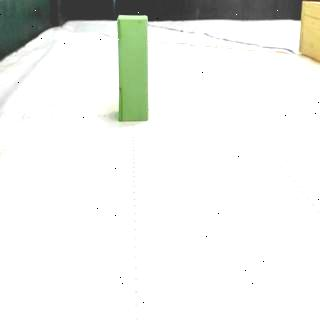greenbox: (116, 13, 148, 122)
